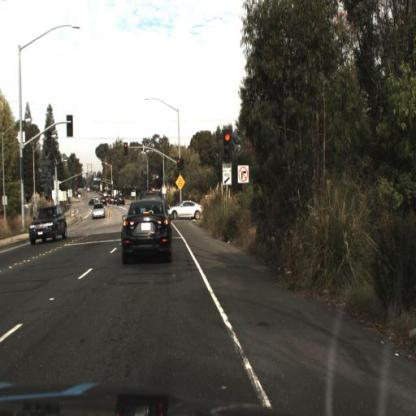car: (119, 198, 174, 265), (29, 201, 69, 245), (169, 201, 207, 223), (169, 201, 202, 219), (92, 203, 106, 224)
trafficLight-Red: (223, 130, 233, 165), (124, 143, 130, 159), (178, 157, 183, 172)
